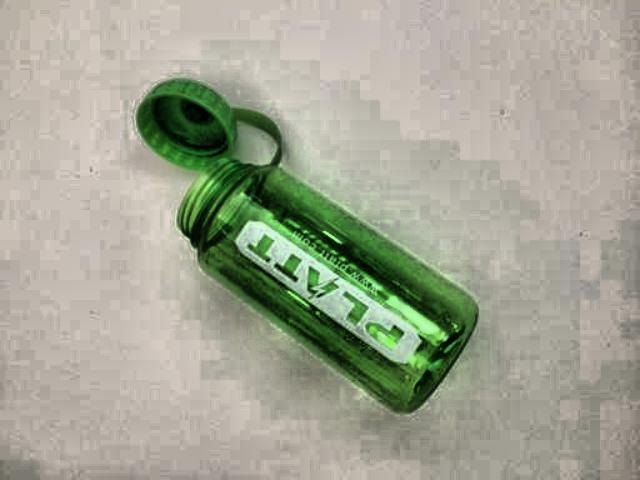Plastic: (104, 69, 483, 429)
